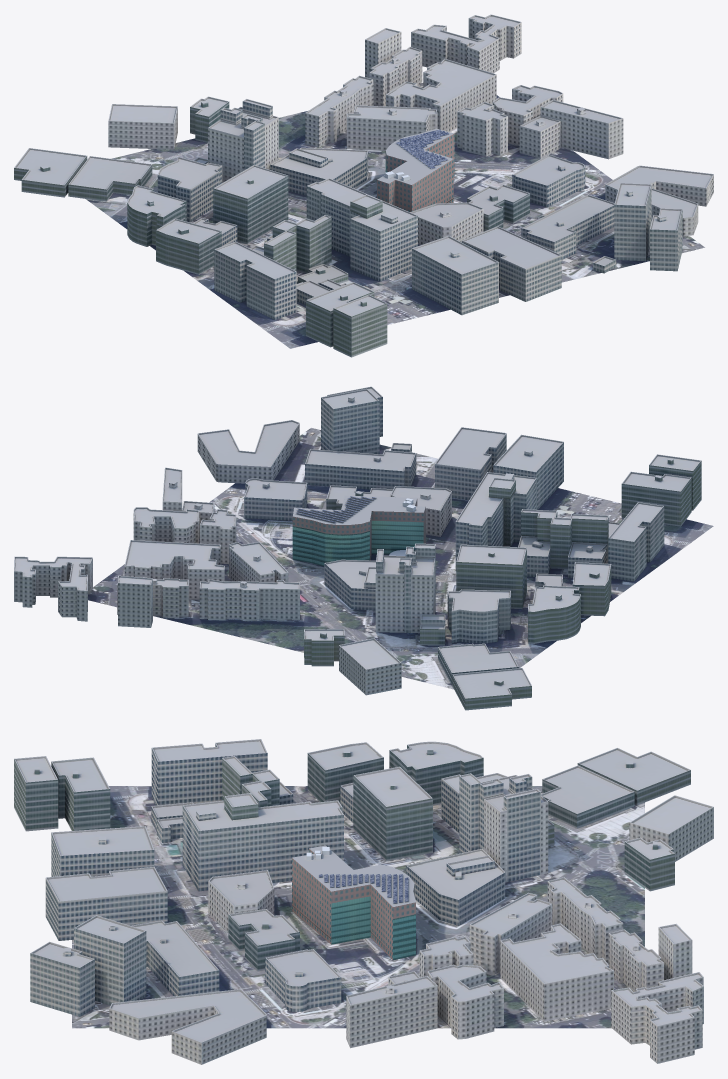
File: scene_opendata.glb
The picture shows the model from 3 angles, top to bottom: view 1: azimuth 30°, elevation 25°; view 2: azimuth 150°, elevation 25°; view 3: azimuth 270°, elevation 25°; orthographic projection. The views are drawn at different scales.
Parts seen in each view (by area): view 1: Buildings, Ground, Hero; view 2: Buildings, Ground, Hero; view 3: Buildings, Ground, Hero.
Boxes of the visible parts, bbox=[...] form: Buildings: bbox=[14, 14, 713, 357]; Ground: bbox=[86, 83, 704, 348]; Hero: bbox=[377, 128, 454, 211]; Buildings: bbox=[14, 386, 701, 710]; Ground: bbox=[88, 428, 713, 689]; Hero: bbox=[292, 495, 425, 566]; Buildings: bbox=[14, 739, 713, 1064]; Ground: bbox=[72, 786, 644, 1028]; Hero: bbox=[292, 845, 415, 959].
Bounding box in the file's own units: 375 × 48 × 367.
3 materials, 3 textured.
